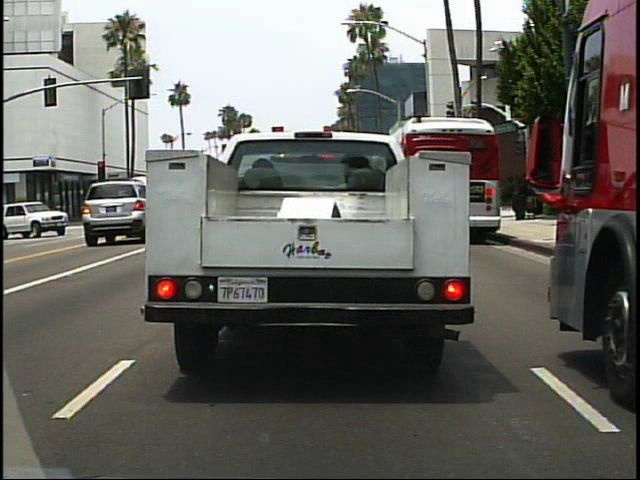person: (511, 181, 531, 221), (18, 199, 37, 234)
